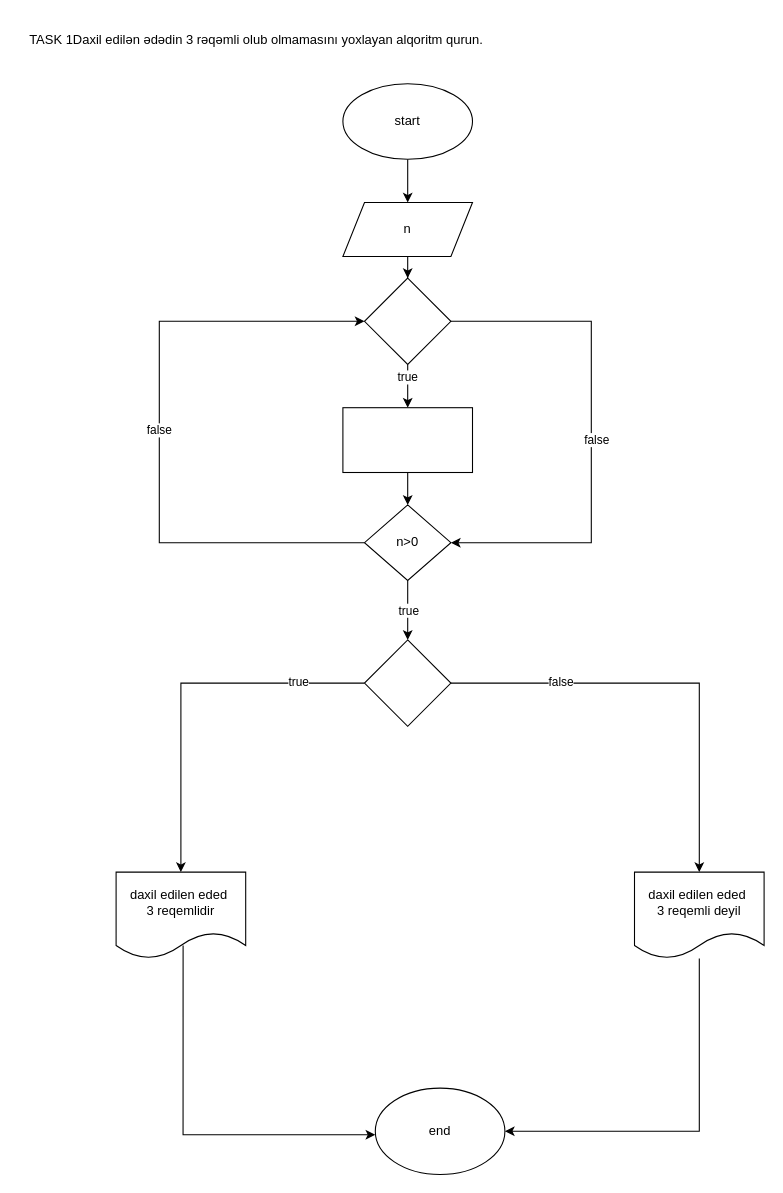
This 783x1193 diagram has some shape labels left out. Here are the shapes that lost their labels. From the top down, the centre of each, then its label:
At point 407,320: "n<0".
At point 407,440: "n==n*(-1)".
At point 407,682: "n>99 && n<1000".
